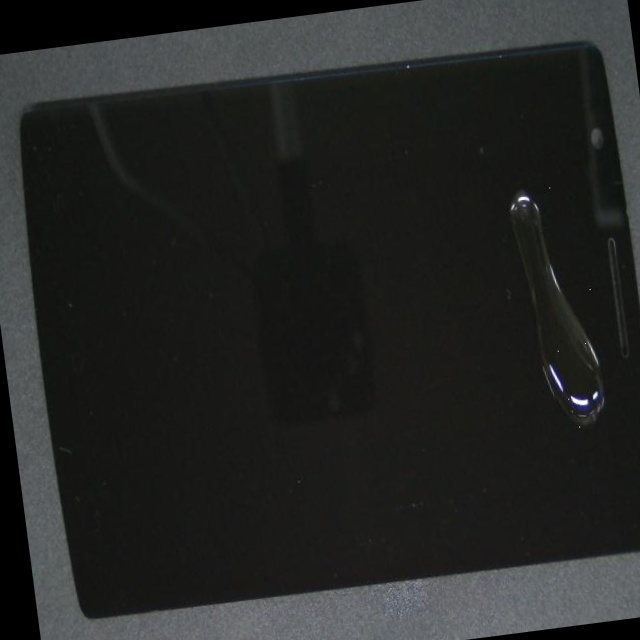oil: (241, 53, 640, 347)
